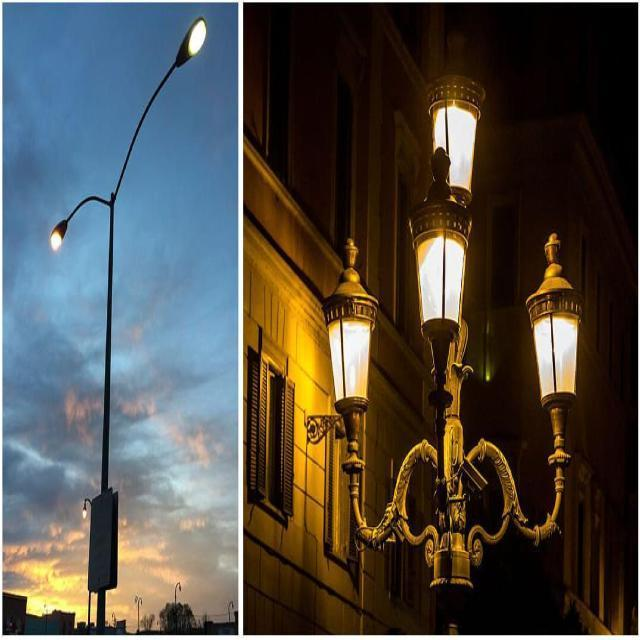on: (400, 76, 486, 362), (313, 266, 398, 440), (512, 253, 596, 422), (142, 0, 248, 112), (35, 206, 92, 294)
